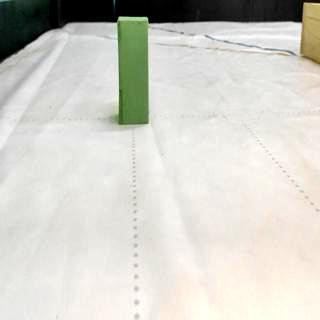greenbox: (118, 15, 151, 124)
